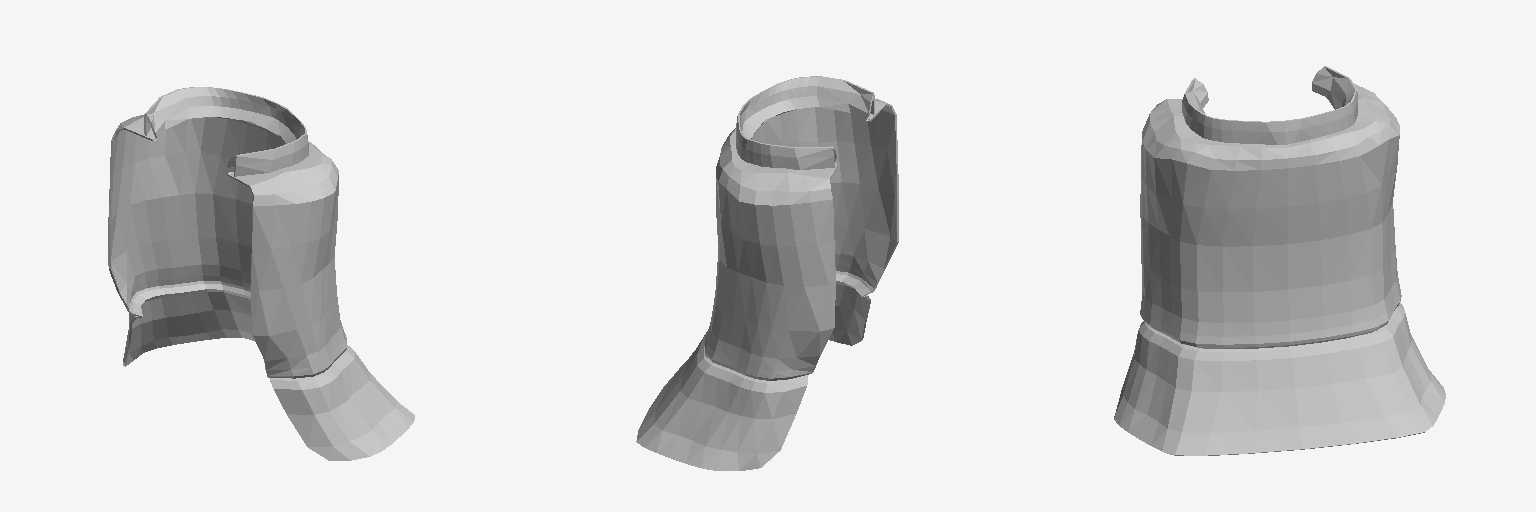
3 views of the same model, side by side, from view 1: azimuth 30°, elevation 25°; view 2: azimuth 150°, elevation 25°; view 3: azimuth 270°, elevation 25° (orthographic).
Parts seen in each view (by area): view 1: Handle1; view 2: Handle1; view 3: Handle1.
Boxes of the visible parts, box(x1,y1,x2,y2) form: Handle1: box(108, 87, 414, 460); Handle1: box(636, 76, 898, 470); Handle1: box(1114, 66, 1445, 455).
Size of the model in its own units: 2.36 by 3.12 by 3.16.